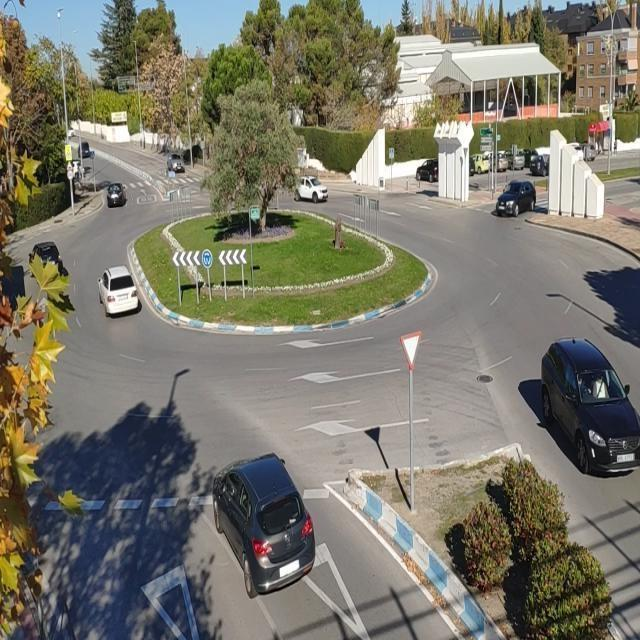Car: (213, 452, 317, 599), (543, 338, 640, 477), (99, 265, 140, 316), (496, 179, 535, 216), (294, 175, 328, 202), (106, 182, 126, 208), (168, 152, 186, 174)
